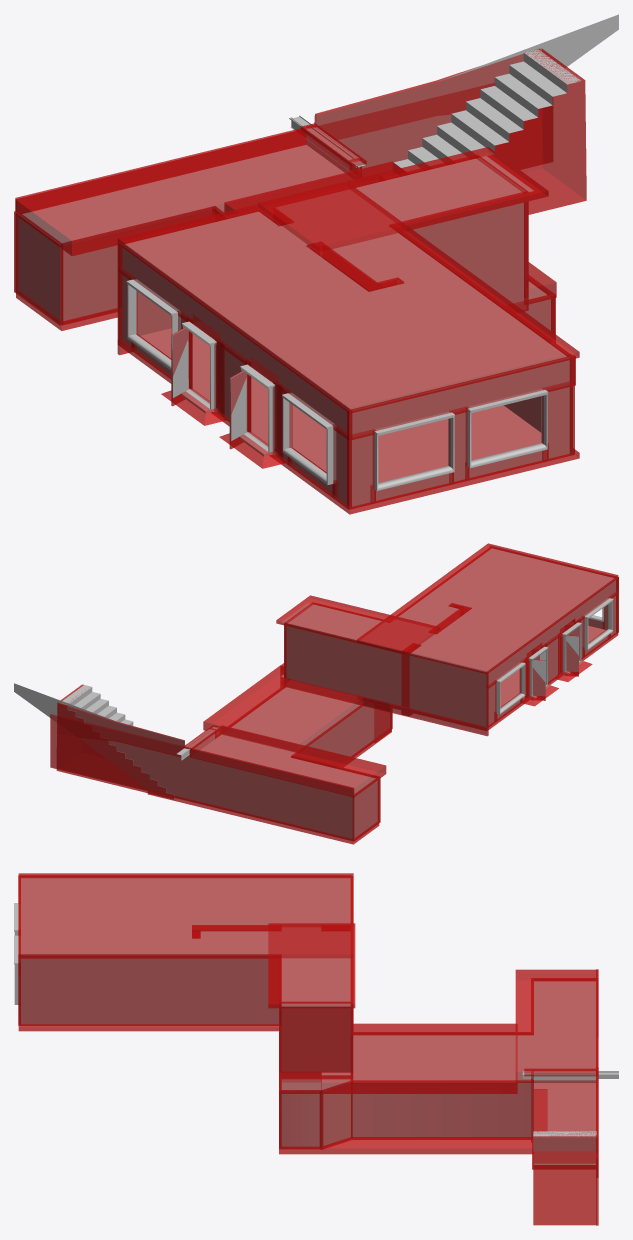
The model's file is CT_Interior_003.dae.
3 renders of one model, top to bottom at view 1: azimuth 30°, elevation 25°; view 2: azimuth 150°, elevation 25°; view 3: azimuth 270°, elevation 25°, orthographic. The views are drawn at different scales.
Parts seen in each view (by area): view 1: colmesh-2, _003_int400; view 2: colmesh-2, _003_int400; view 3: colmesh-2, _003_int400.
Part boxes in pixels (left/top/right/bottom): colmesh-2: left=14, top=48, right=586, bottom=514; _003_int400: left=18, top=14, right=618, bottom=506; colmesh-2: left=50, top=543, right=618, bottom=844; _003_int400: left=14, top=548, right=615, bottom=838; colmesh-2: left=18, top=873, right=598, bottom=1225; _003_int400: left=14, top=877, right=618, bottom=1164.
Size of the model in its own units: 235 by 64.47 by 245.
